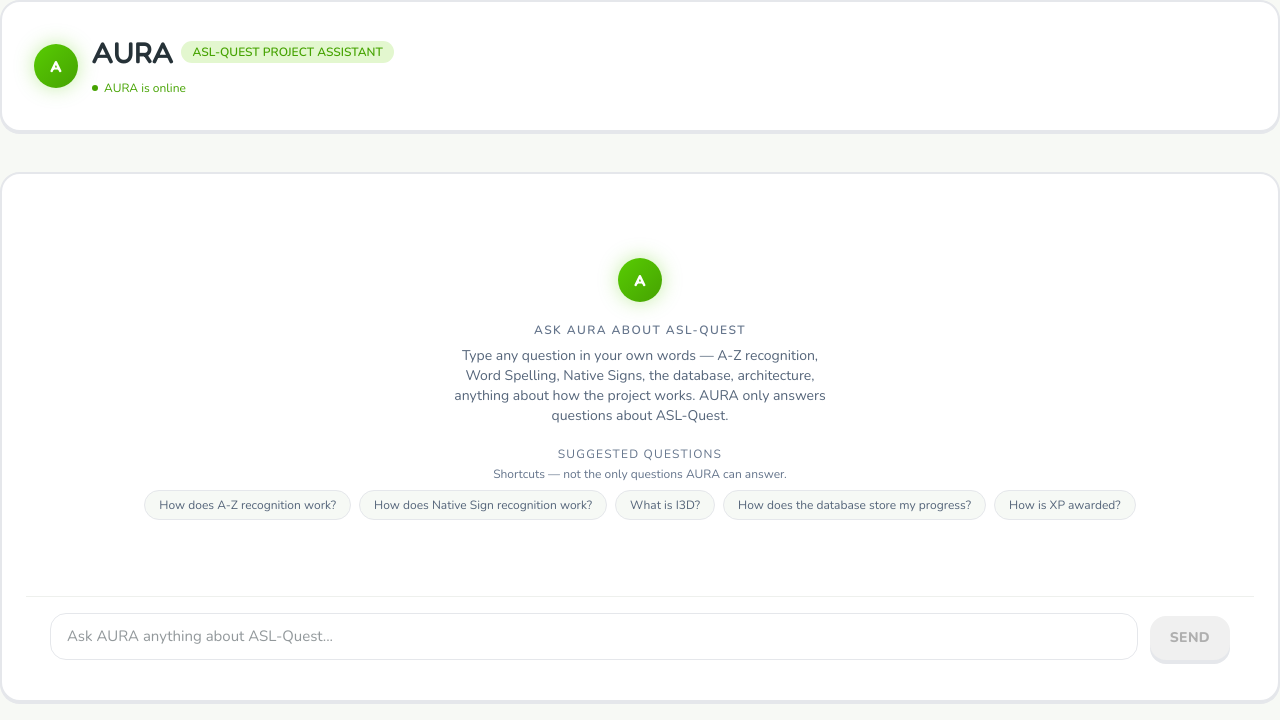
Scenario: ChatbotPage: send failure surfaces an honest message › shows the real error instead of silently failing
The width and height of the screenshot is (1280, 720).
Type "How is XP awarded?" into the text box named "Message AURA" at (594, 636), box [50,613,1138,660]
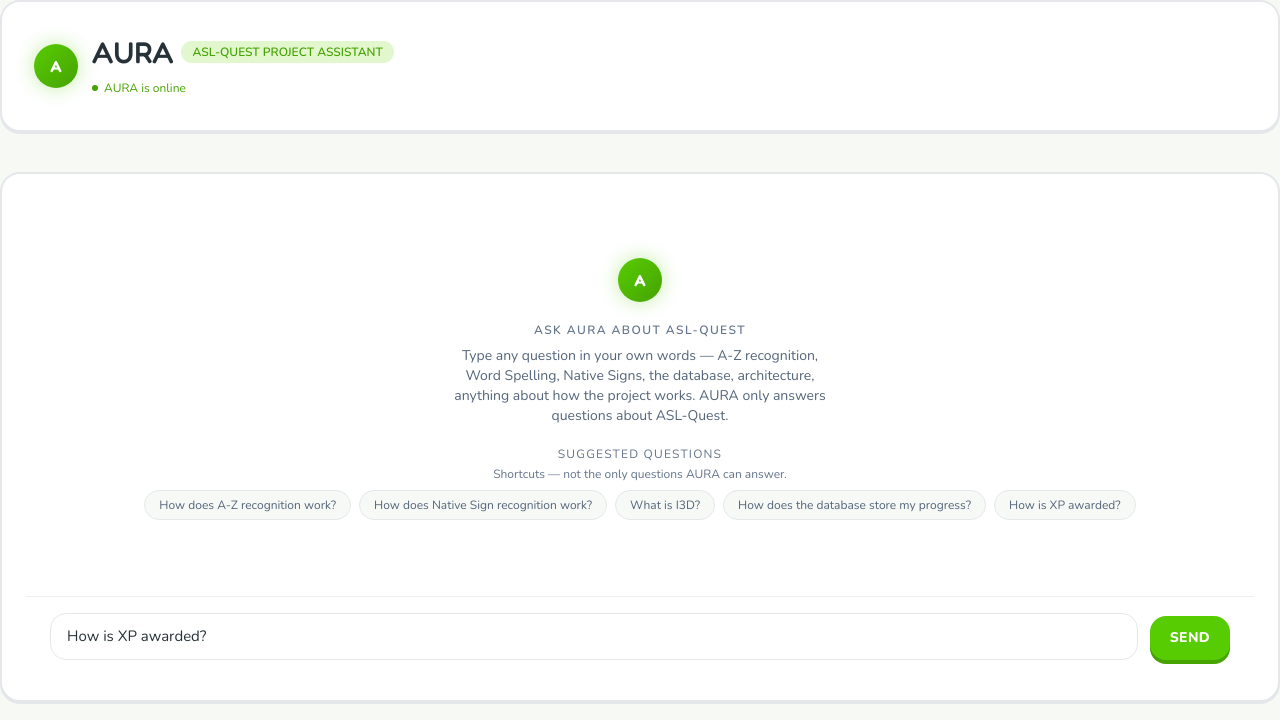
Click the button with aria-label "Send message to AURA" at (1190, 638), box [1150,616,1230,660]
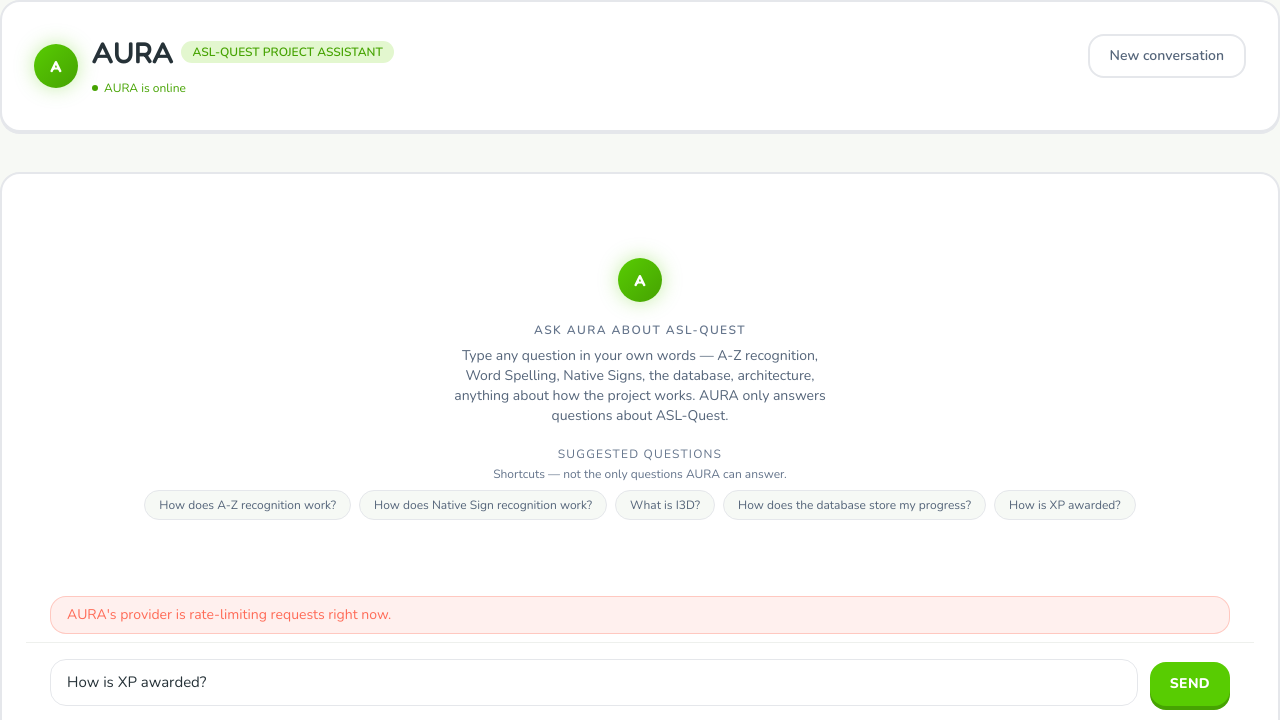
Expected: the text "AURA's provider is rate-limiting requests right now." is shown, [50,596,1230,634]
